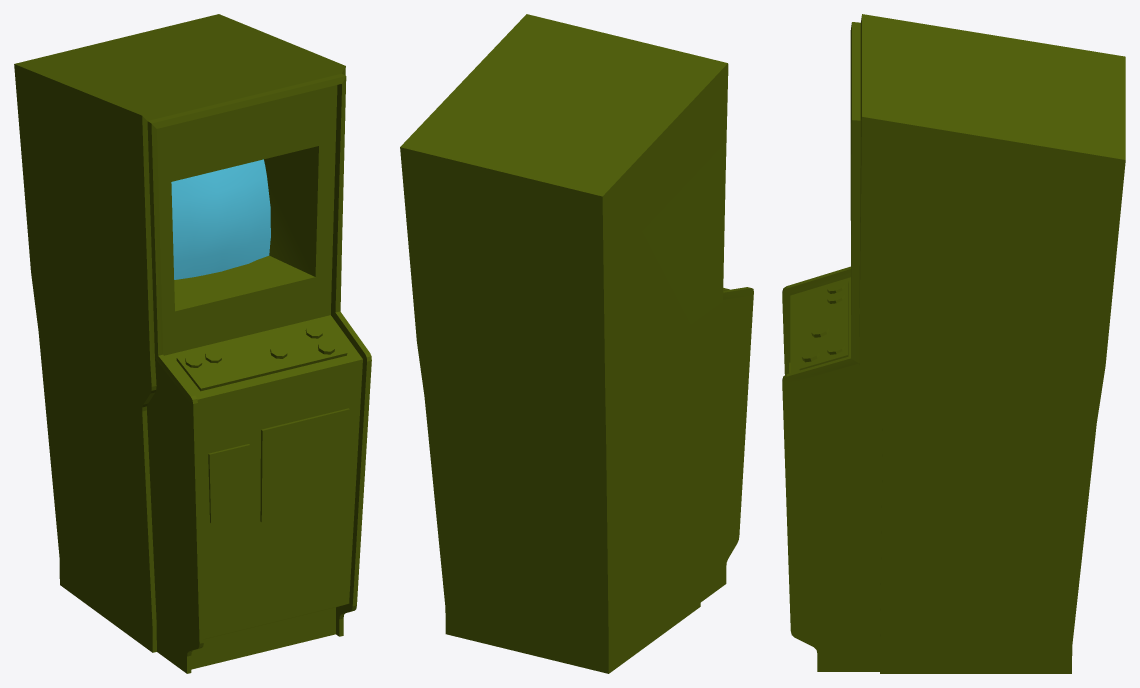
Rendered from arcade_aiia.fbx.
3 renders of one model, left to right at view 1: azimuth 30°, elevation 25°; view 2: azimuth 150°, elevation 25°; view 3: azimuth 270°, elevation 25°, orthographic. The views are drawn at different scales.
Parts seen in each view (by area): view 1: Arcade_AIIA, Screen_Plane; view 2: Arcade_AIIA; view 3: Arcade_AIIA.
Boxes of the visible parts, x1,y1,x2,y2 form: Arcade_AIIA: (14, 14, 371, 673); Screen_Plane: (171, 159, 270, 279); Arcade_AIIA: (400, 14, 753, 673); Arcade_AIIA: (782, 14, 1125, 673).
Size of the model in its own units: 0.8638 by 2.21 by 1.21.
